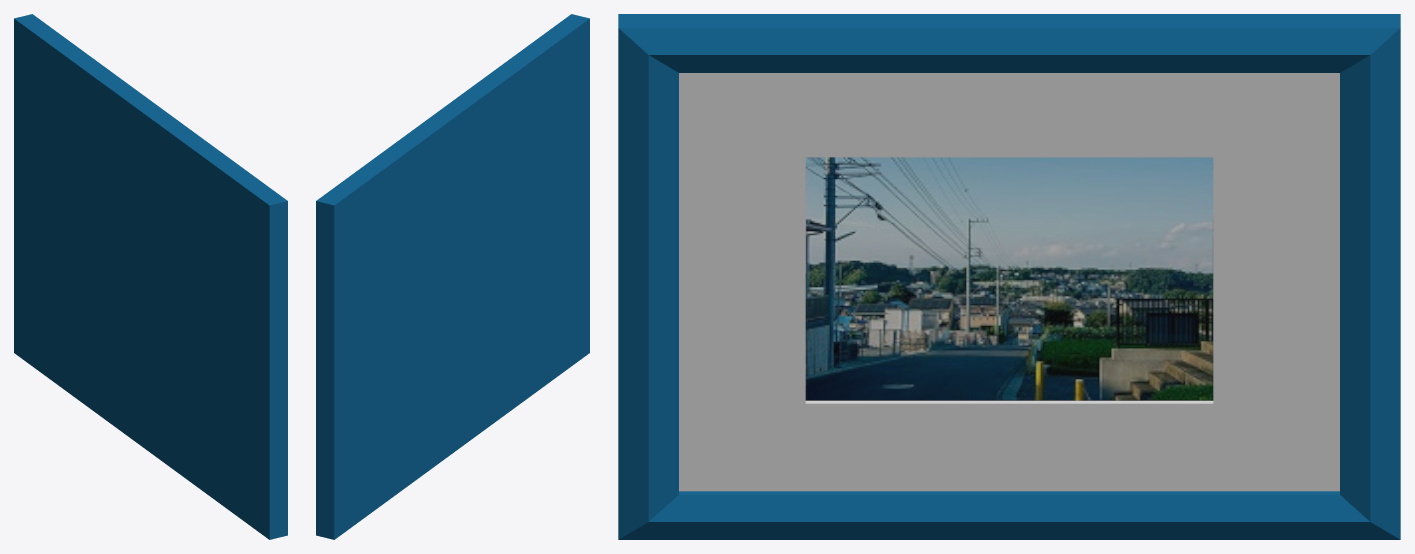
File: photoframe2.glb
The picture shows the model from 3 angles, left to right: view 1: azimuth 30°, elevation 25°; view 2: azimuth 150°, elevation 25°; view 3: azimuth 270°, elevation 25°; orthographic projection. The views are drawn at different scales.
Parts seen in each view (by area): view 1: Frame; view 2: Frame; view 3: Frame, Photo.
Part boxes in pixels (bbox=[...]): Frame: bbox=[14, 14, 287, 539]; Frame: bbox=[316, 14, 589, 539]; Frame: bbox=[618, 14, 1400, 539]; Photo: bbox=[805, 157, 1213, 400].
Size of the model in its own units: 0.02 by 0.26 by 0.36.
3 materials, 1 textured.
